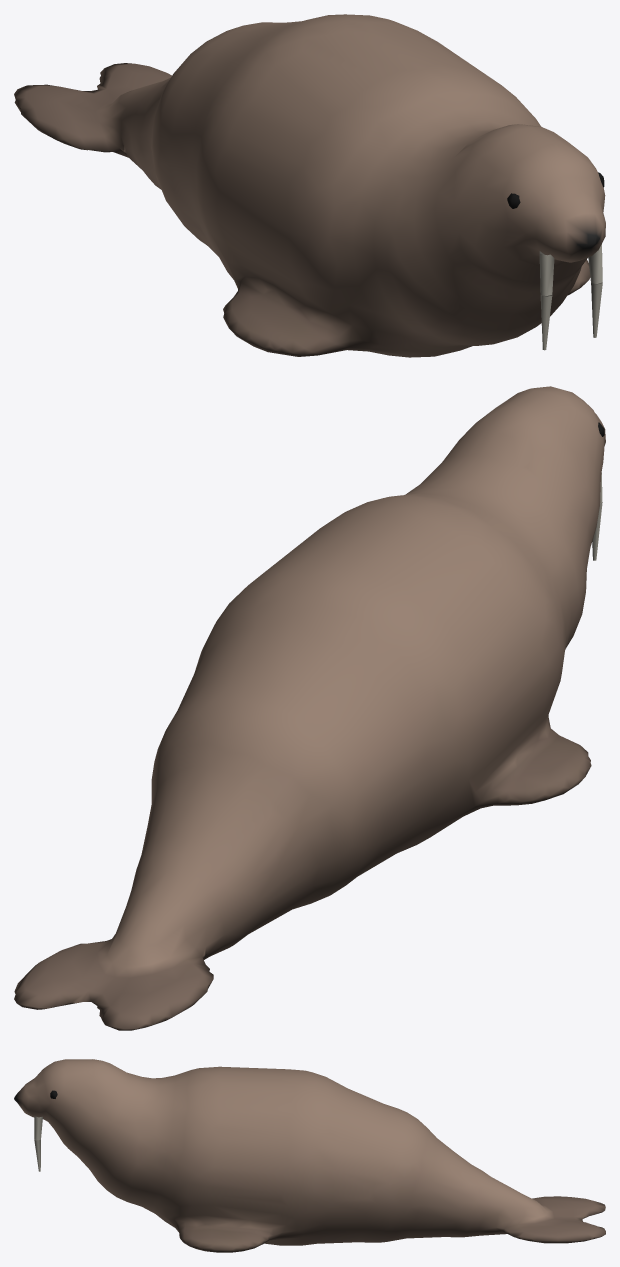
The model's file is walross.glb.
3 views of the same model, one above another, from view 1: azimuth 30°, elevation 25°; view 2: azimuth 150°, elevation 25°; view 3: azimuth 270°, elevation 25° (orthographic). The views are drawn at different scales.
Parts seen in each view (by area): view 1: lack; view 2: lack; view 3: lack.
Part boxes in pixels (x1,y1,x2,y2): lack: (14, 14, 605, 357); lack: (14, 386, 605, 1030); lack: (14, 1059, 605, 1252).
Size of the model in its own units: 1.41 by 1.17 by 3.73.
